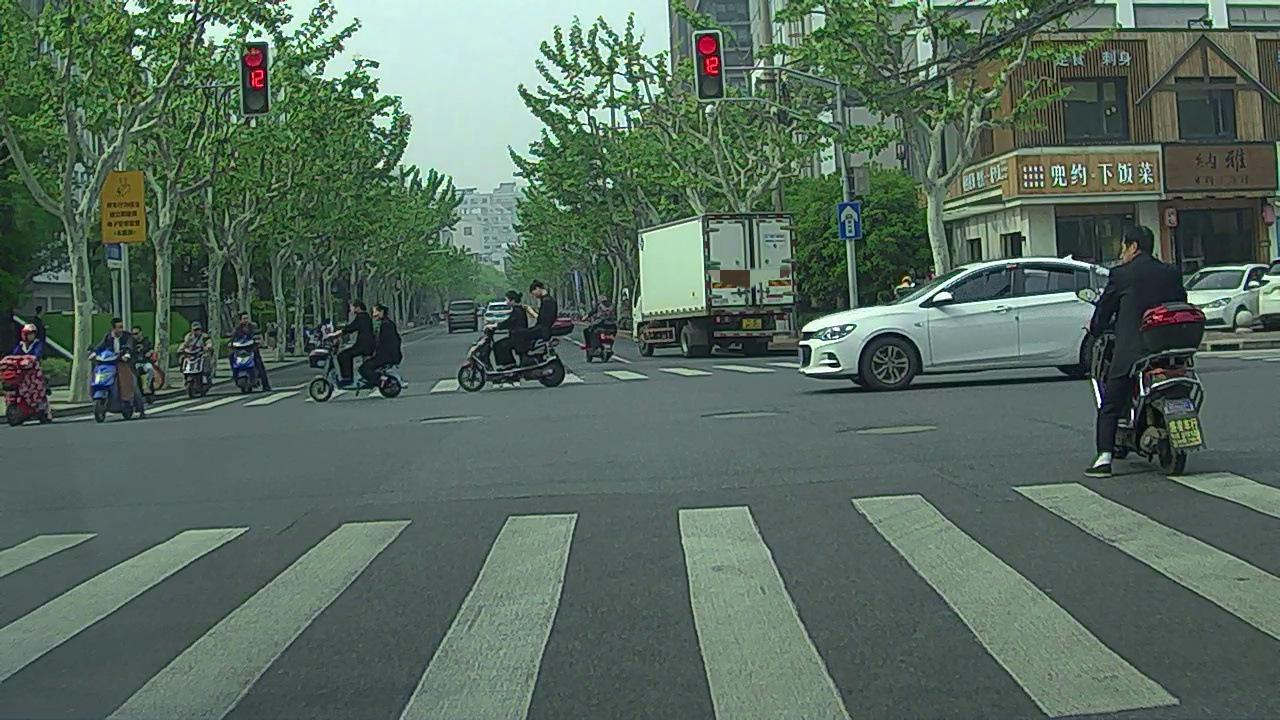traffic_light: (694, 33, 727, 102), (243, 45, 271, 113)
